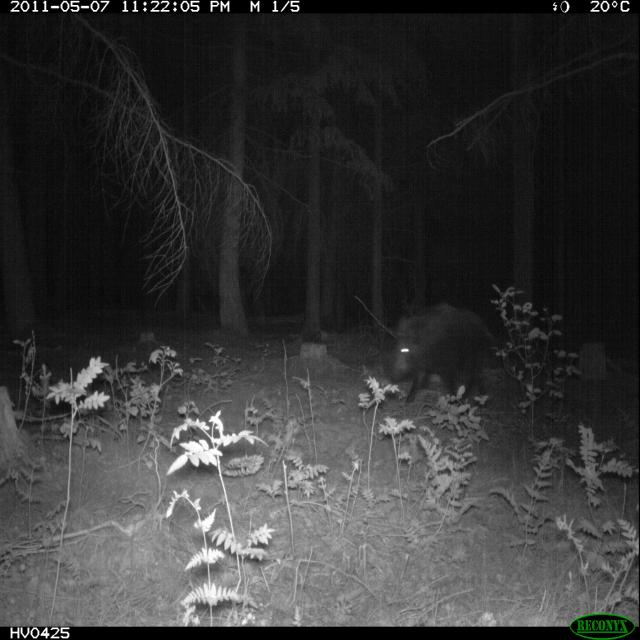boar: (361, 270, 529, 422)
